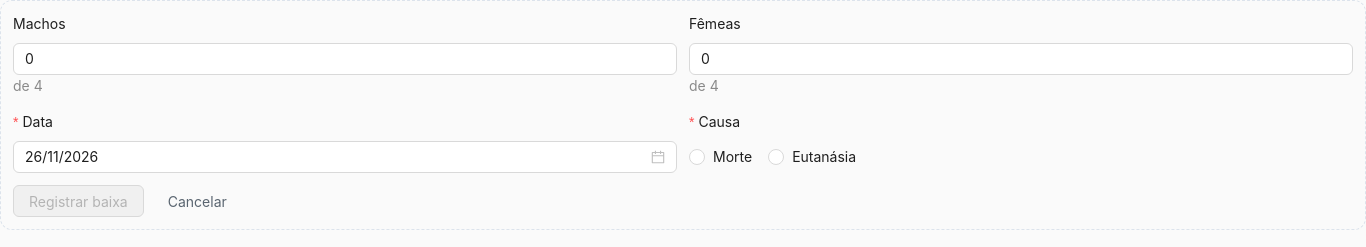
Test: baixa › a baixa que libera a caixa não oferece o Desfazer
This screenshot has width=1366, height=247.
Replace the text in the number field labelled "Machos" with "1": (345, 59) x1=14 y1=44 x2=676 y2=74
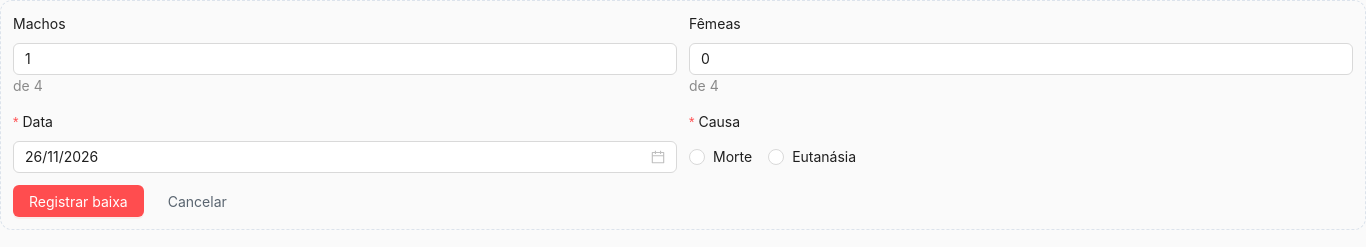
Click the radio button labelled "Morte": (725, 157) x1=689 y1=146 x2=760 y2=168
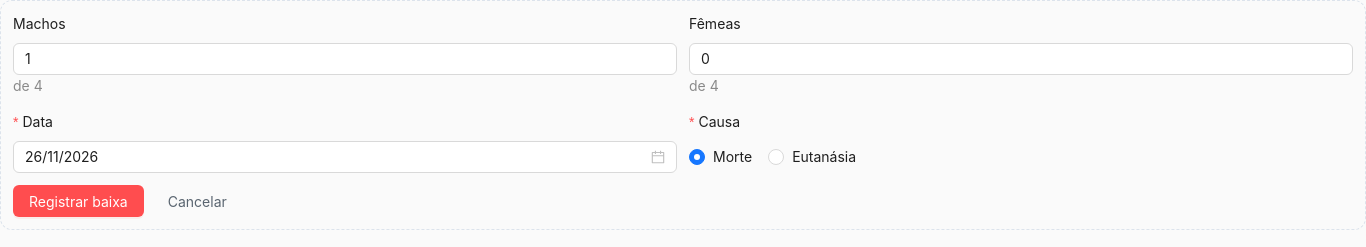
Click the button "Registrar baixa": (78, 201) x1=13 y1=185 x2=144 y2=217
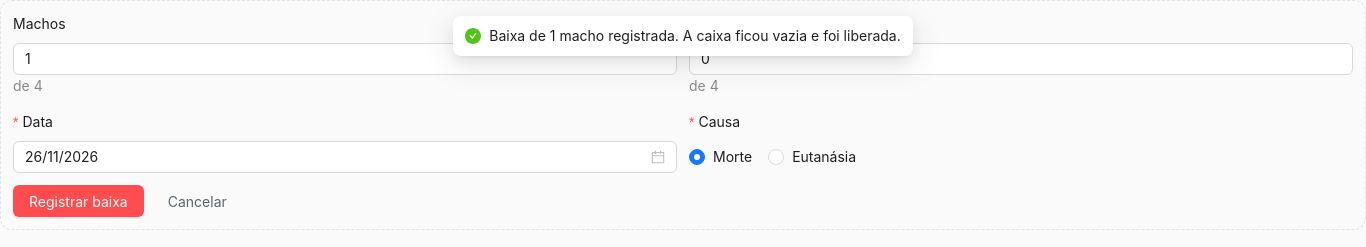
Check: the text "A caixa ficou vazia e foi liberada" is shown, box x1=489 y1=27 x2=901 y2=44
